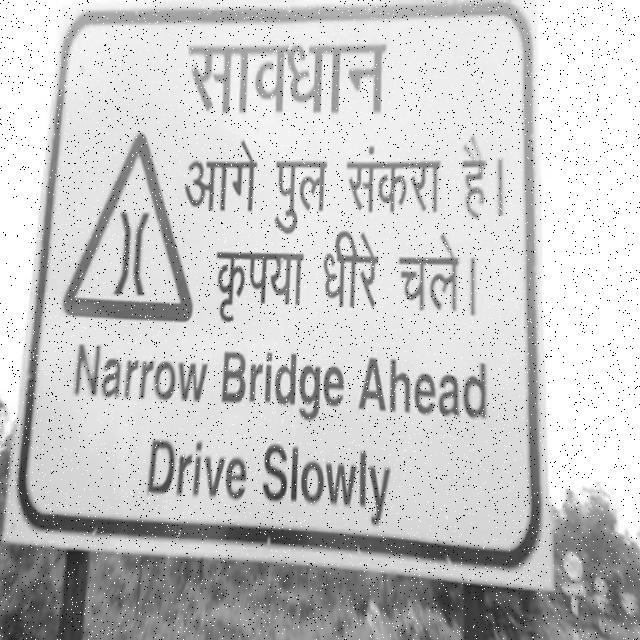Narrow_Bridge: (64, 130, 193, 336)
